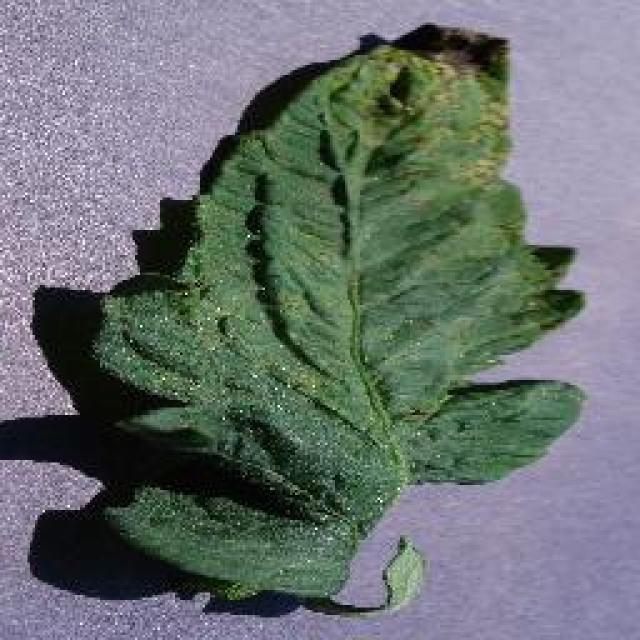Tomato target spot leaf: (94, 21, 598, 619)
